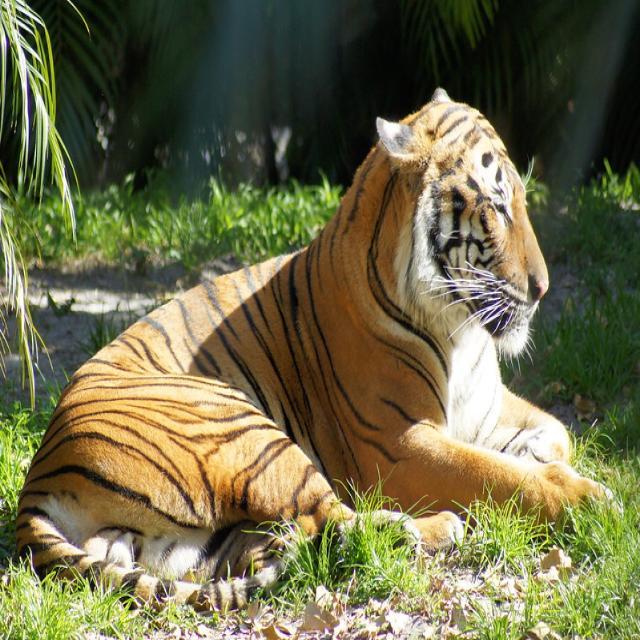Tiger: (15, 85, 618, 611)
